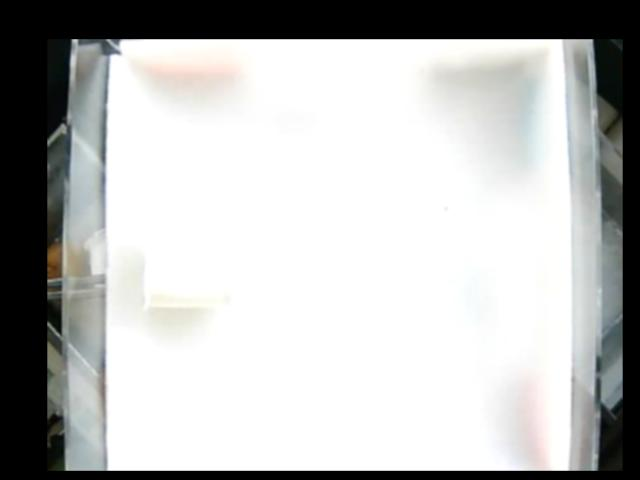Cup: (139, 212, 240, 310)
